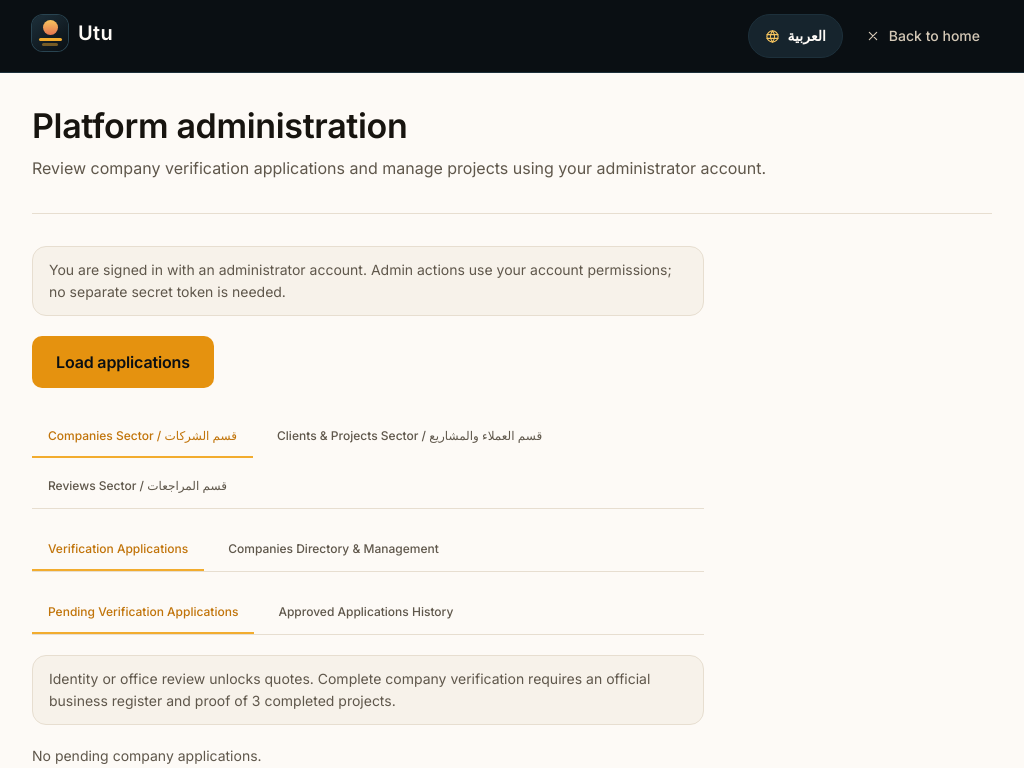
Test: CompanyPortalPage admin requirements › shows an empty state instead of sample reports when the database has no reports
Click the button "Load applications".
click(123, 362)  # box [32, 336, 214, 388]
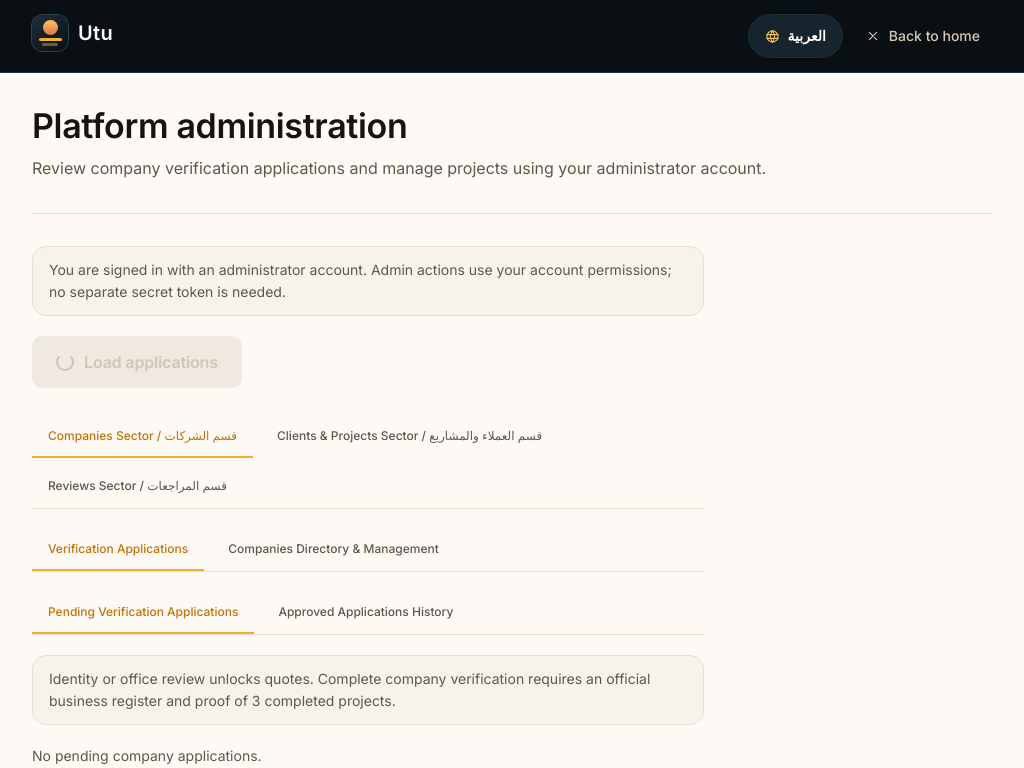
Click the tab "Clients & Projects Sector / قسم العملاء والمشاريع".
click(410, 437)  # box [261, 416, 558, 458]
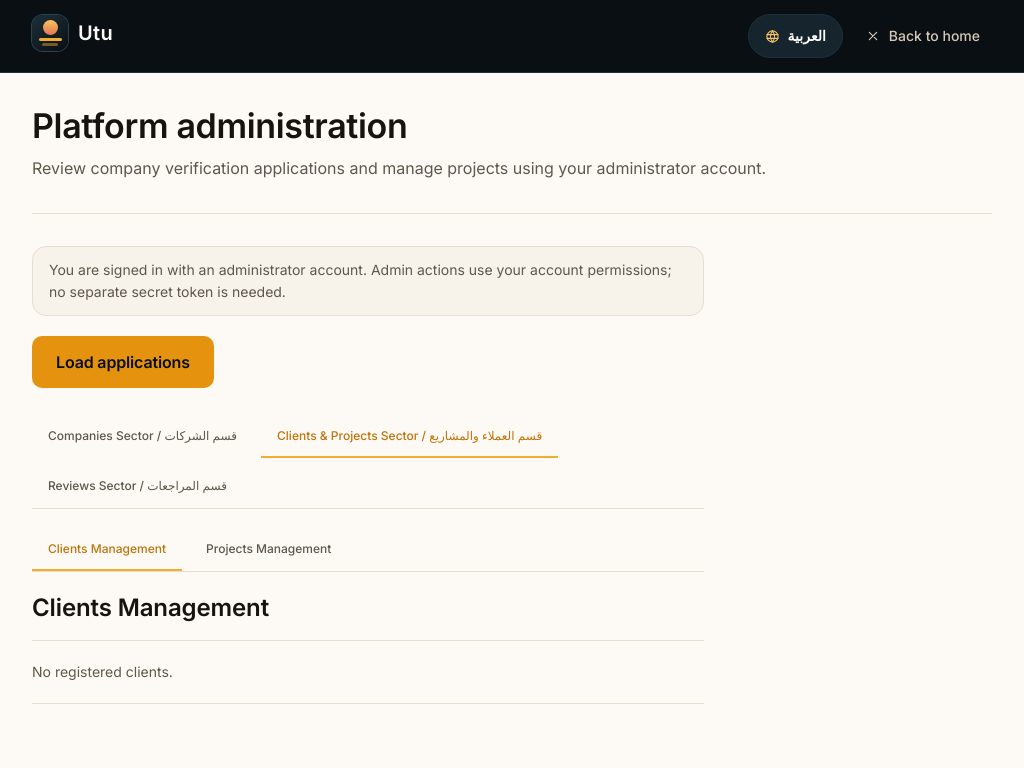
Click the tab "Projects Management".
click(269, 550)  # box [190, 529, 347, 571]
(page scrolled)
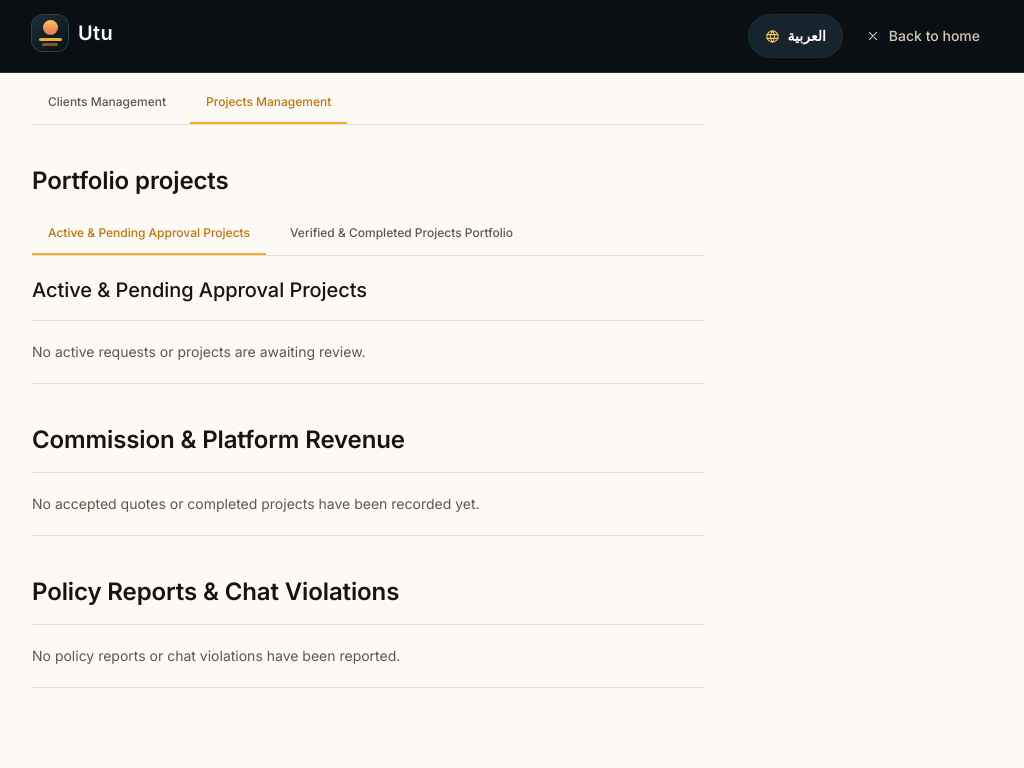
Result: the text "No policy reports or chat violations have been reported." is shown at [32, 624, 704, 688]
